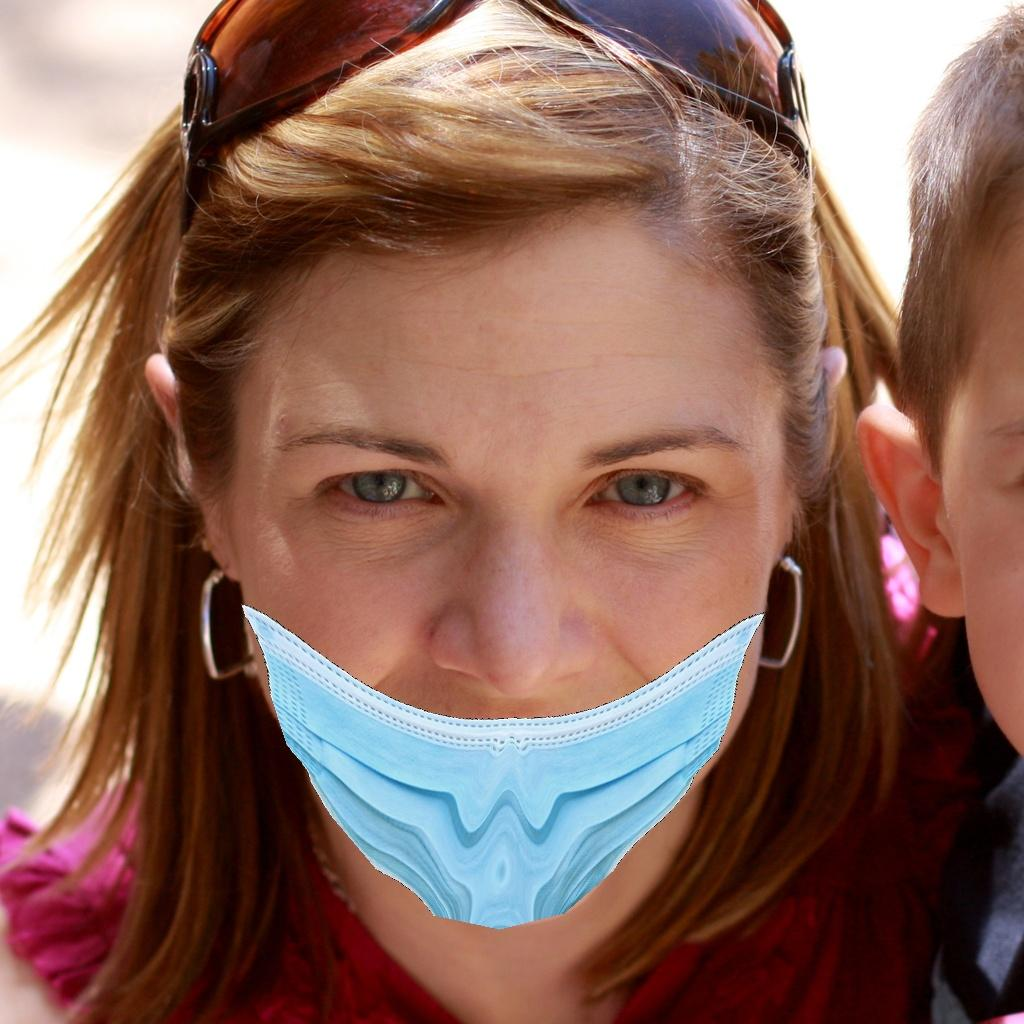Máscara Incorreta: (210, 325, 796, 914)
